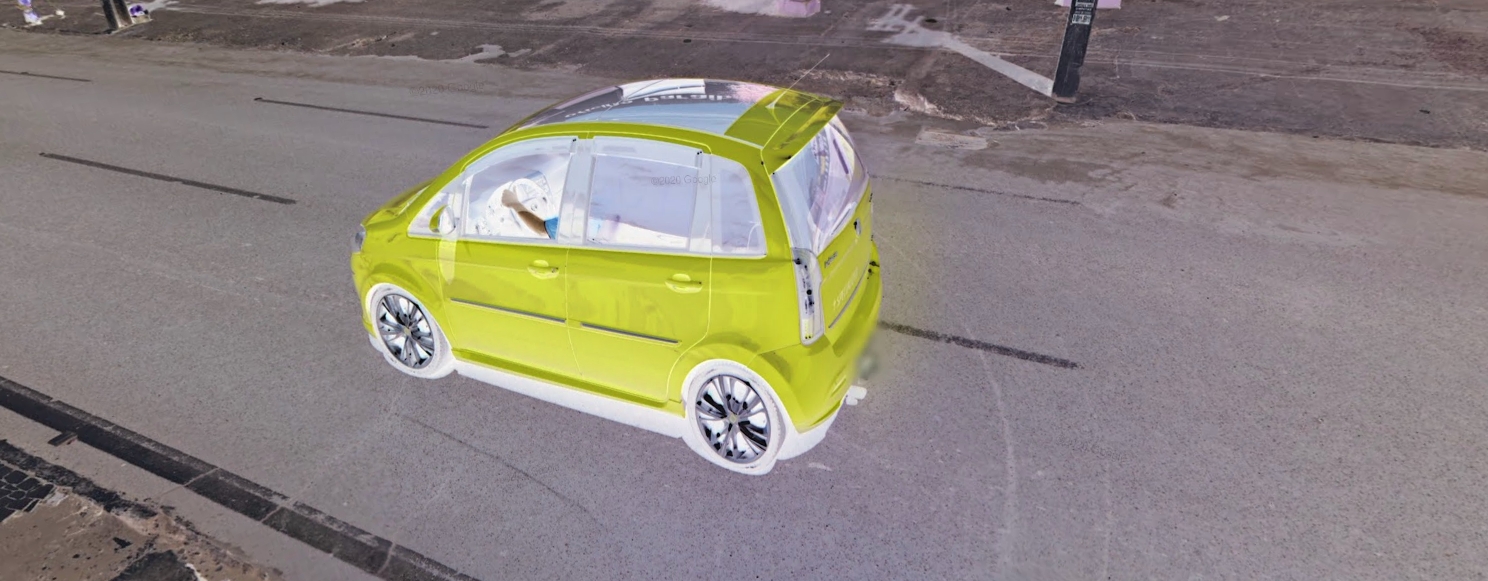car: (345, 46, 887, 486)
